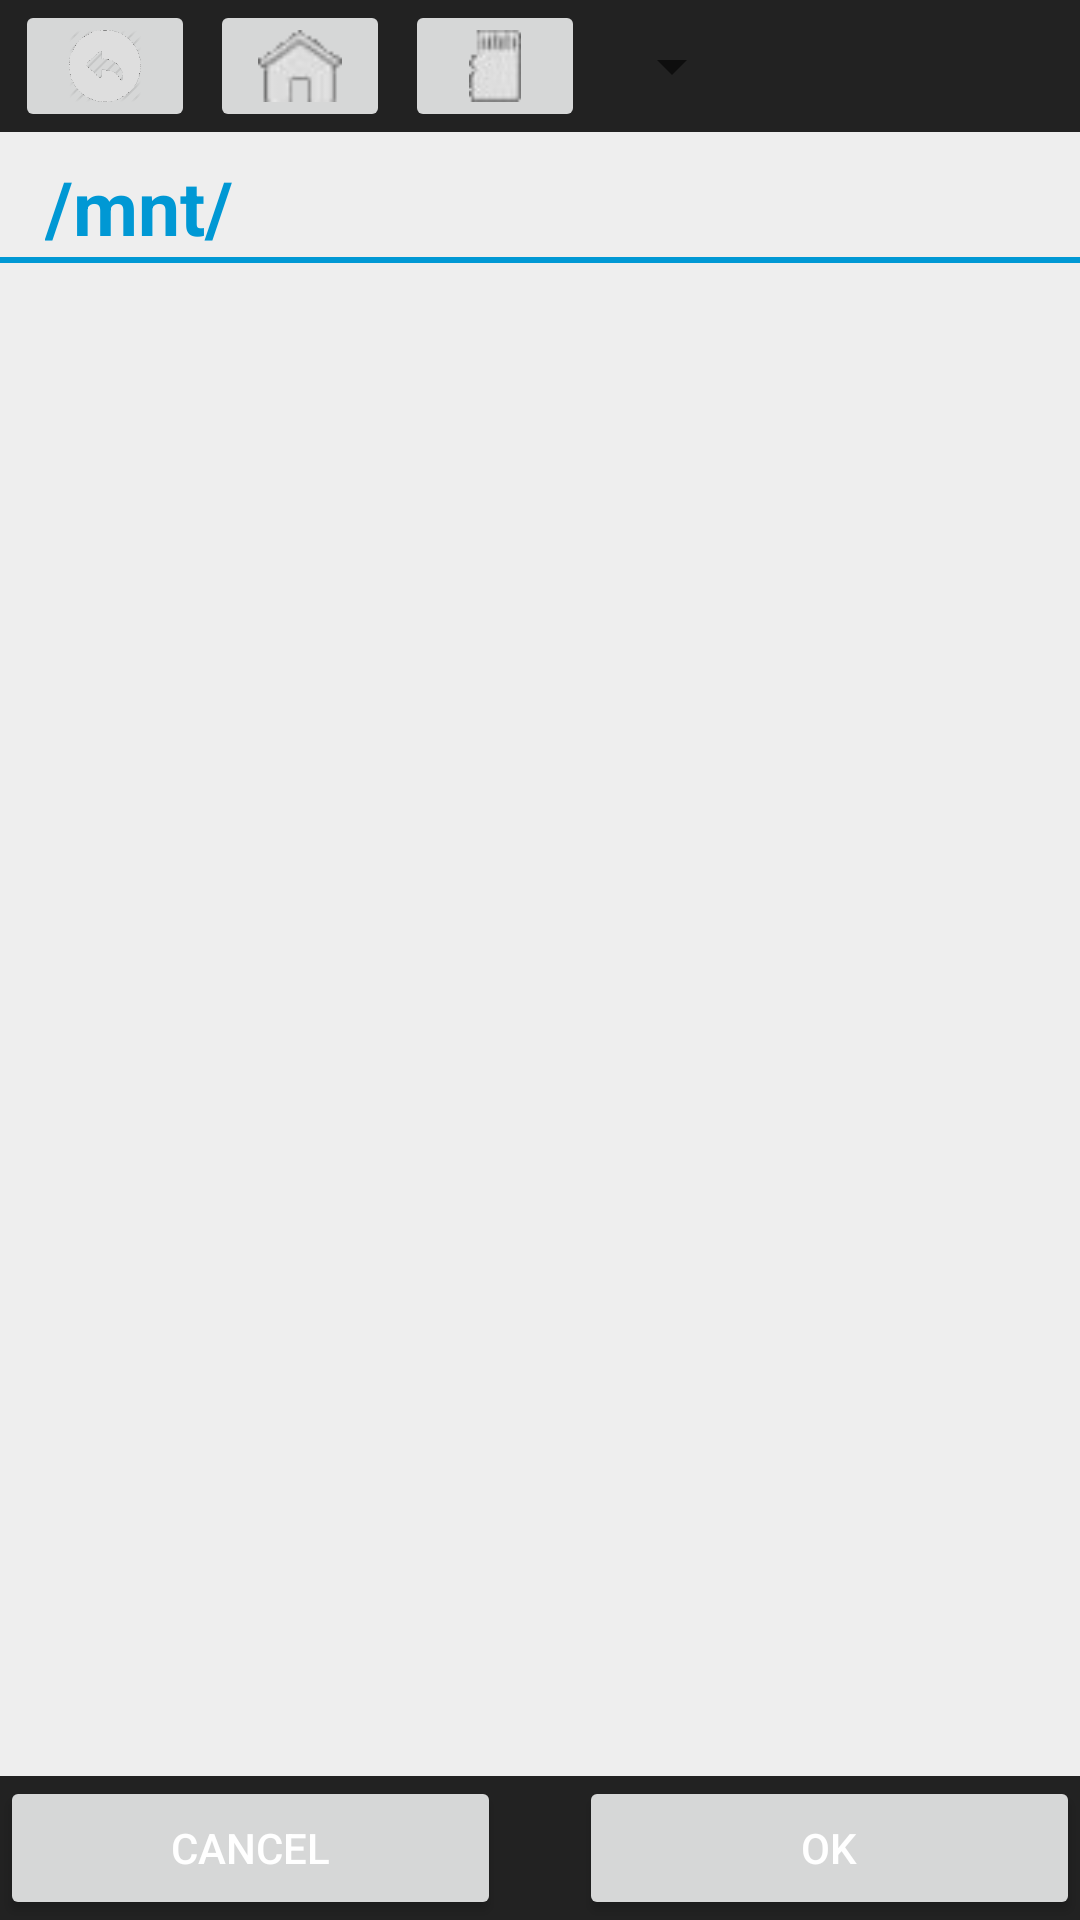

Icon bounding boxes for this 1080 x 1920 phone screenshot, format (x1, y1, x2, y2):
back: (27, 18, 183, 114)
home: (222, 18, 378, 114)
